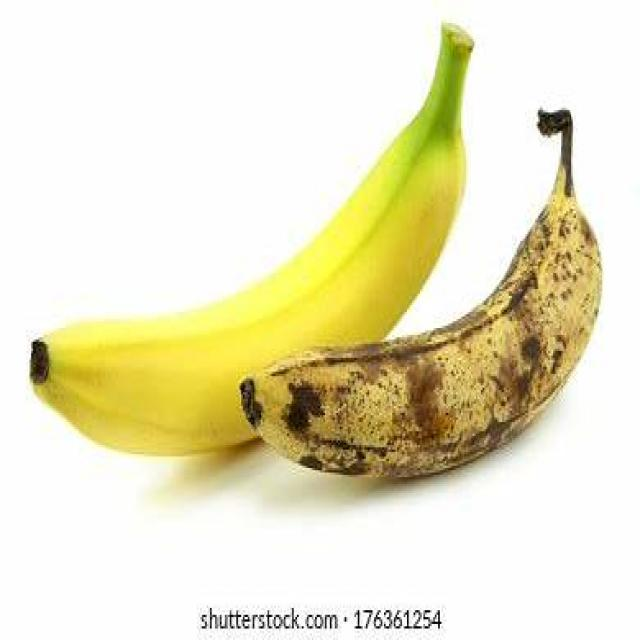Banana: (26, 18, 488, 457), (241, 103, 605, 484)
